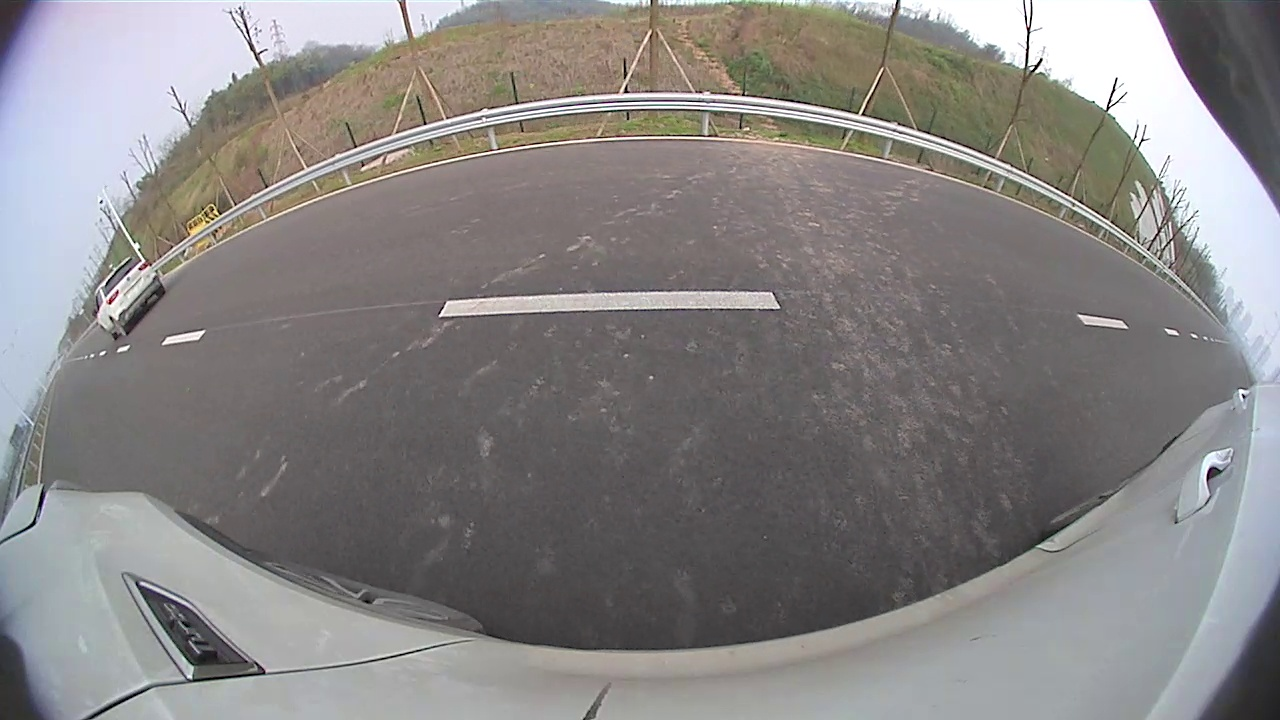car: (544, 1, 946, 245)
front: (884, 190, 931, 246)
rear: (642, 151, 738, 244)
